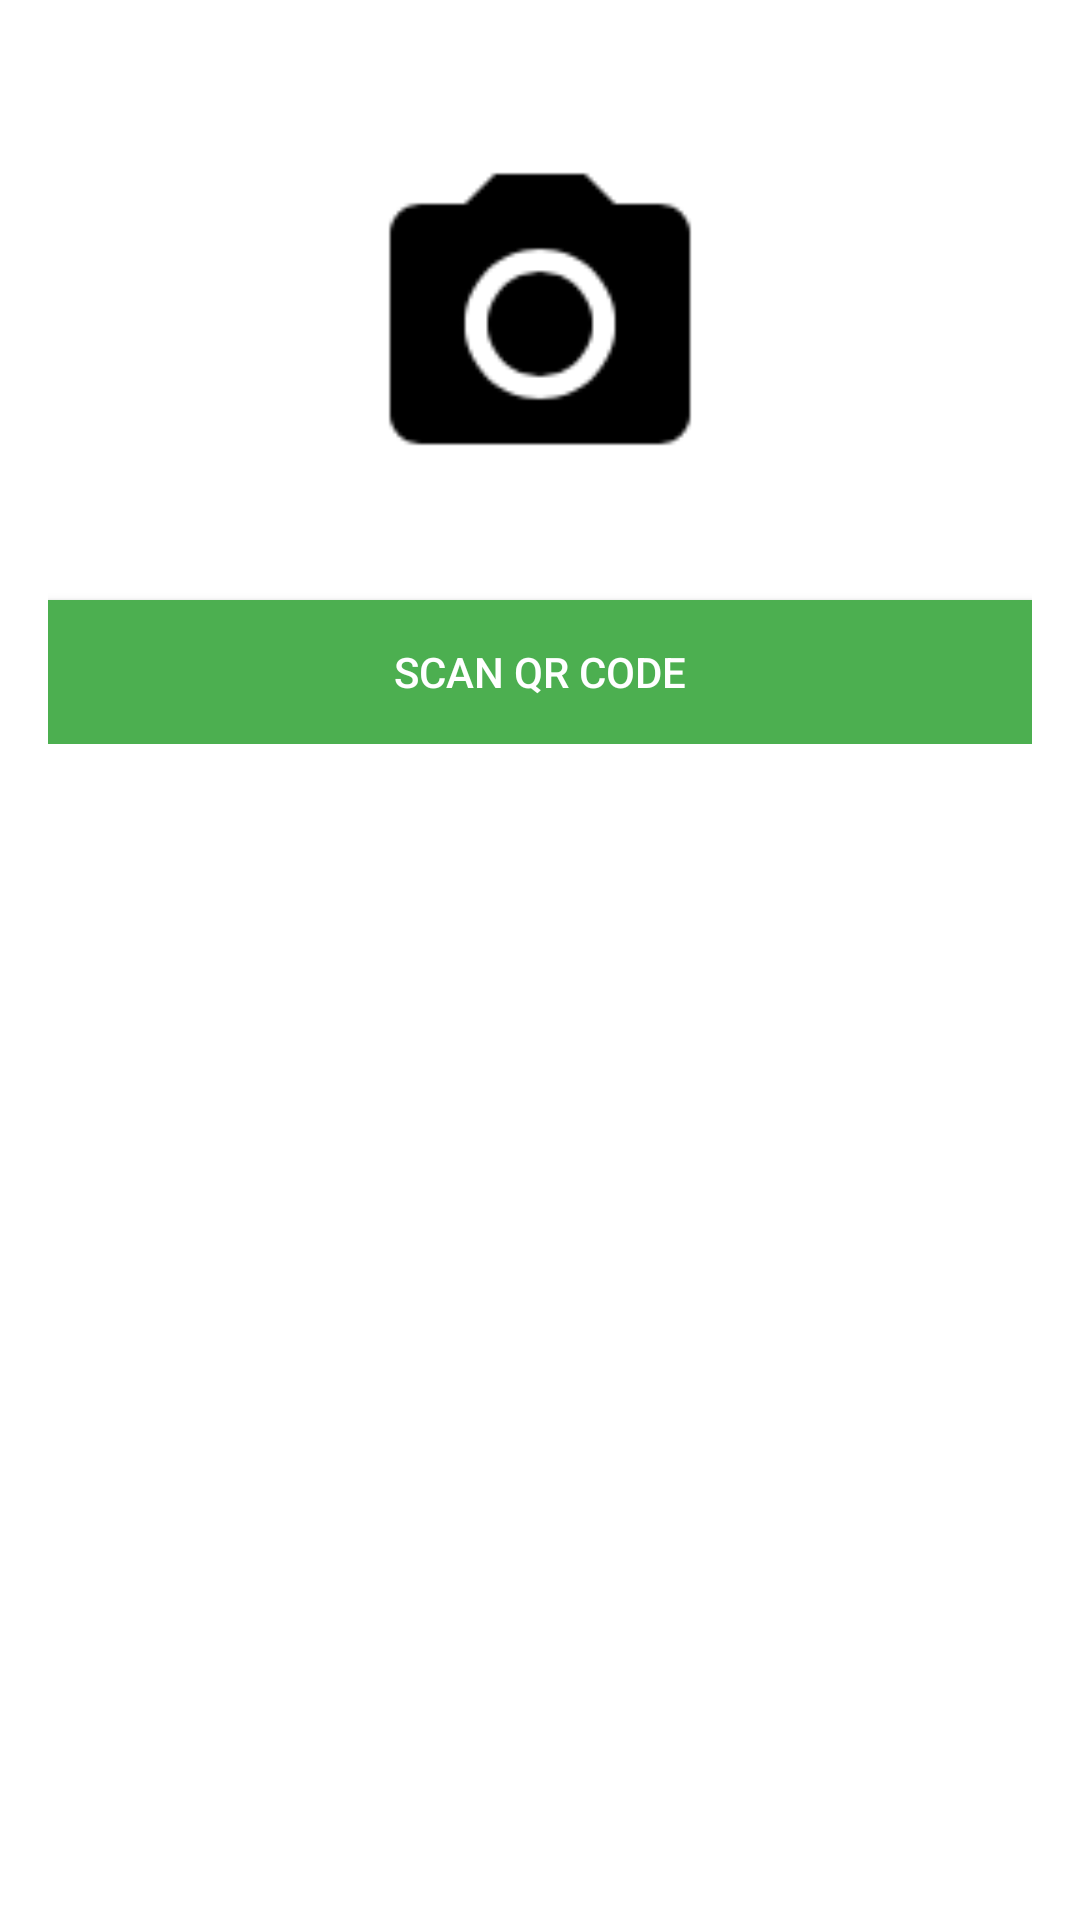

Icons on this 1080px x 1920px Android screen, each with the point to tap as point (x, y):
camera: point (540, 309)
